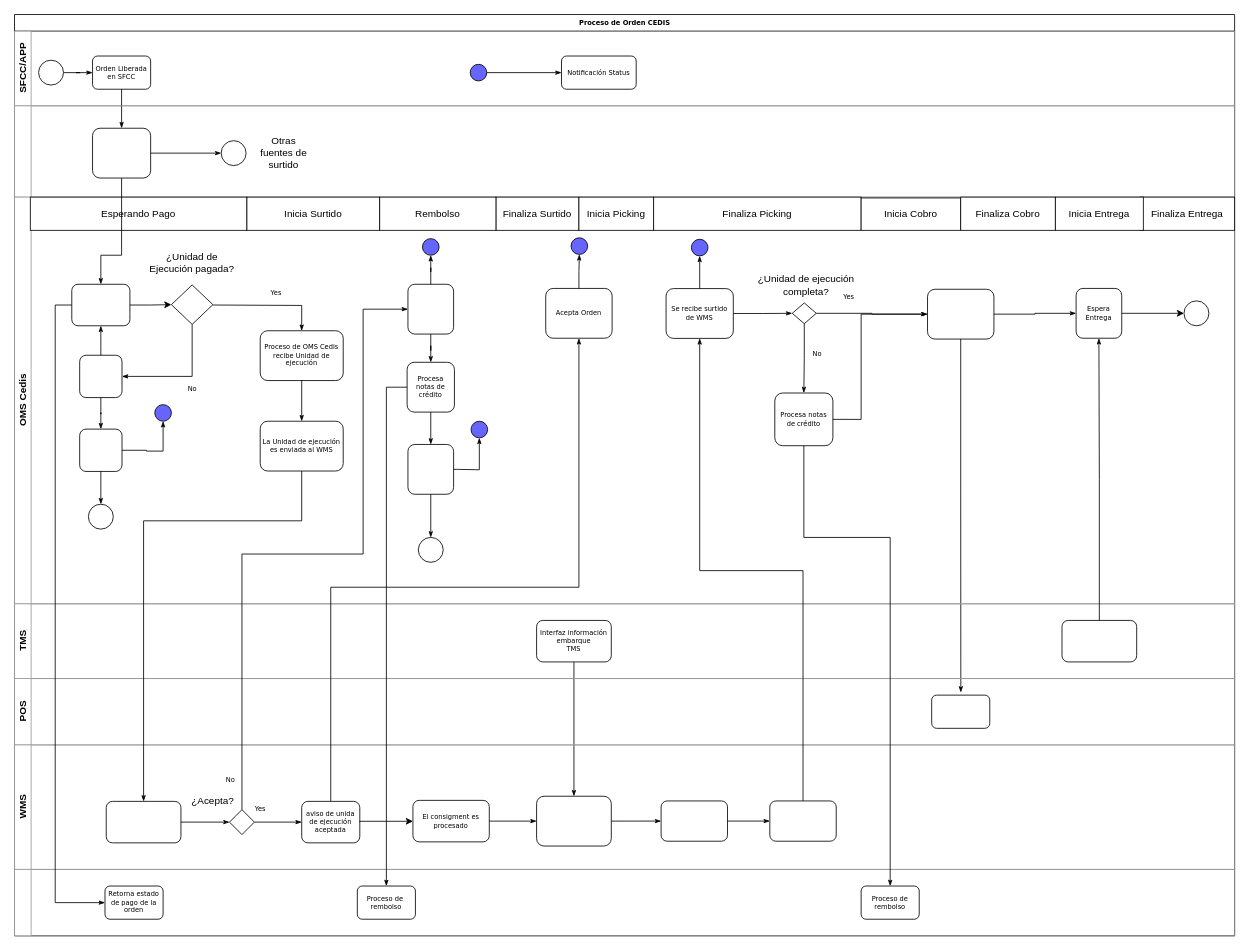
The diagram is 1249 pixels wide and 950 high, and some of its shapes have lost their labels. Each missing label, with the box of its shape:
Espera por recolección: (660, 800, 727, 841)
Esperar: (79, 354, 122, 398)
Mercancía Recolectada: (769, 800, 836, 841)
Notifica Entrega: (1061, 620, 1137, 662)
Notifica Rechazo: (407, 444, 454, 494)
Notificar Cancelación: (79, 428, 122, 471)
OMS Spliter: (14, 105, 1235, 197)
PPS: (14, 869, 1235, 936)
Recibe unidad de ejecución para surtido: (105, 801, 181, 843)
Registro de Venta en PVS: (927, 288, 994, 339)
Se obtiene información de TMS para embarque: (536, 795, 611, 846)
Se registra venta en PVS: (931, 694, 990, 728)
Separación por Unidades de Ejecución: (92, 127, 151, 178)
Unidad de ejecución Rechazada: (407, 283, 454, 334)
Validación de Pago: (71, 283, 130, 326)
